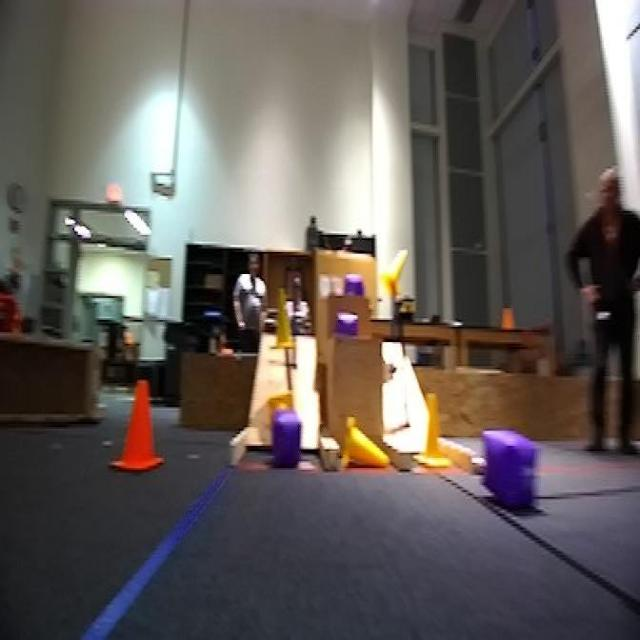frc_cone: (416, 388, 452, 468), (343, 419, 385, 470), (271, 290, 298, 352), (380, 250, 406, 301), (266, 395, 295, 415)
frc_cube: (485, 434, 537, 512), (271, 417, 304, 470), (336, 316, 358, 341), (346, 272, 362, 293)
